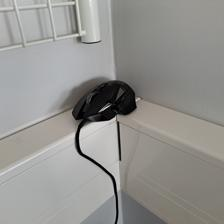mouse: (70, 78, 138, 124)
